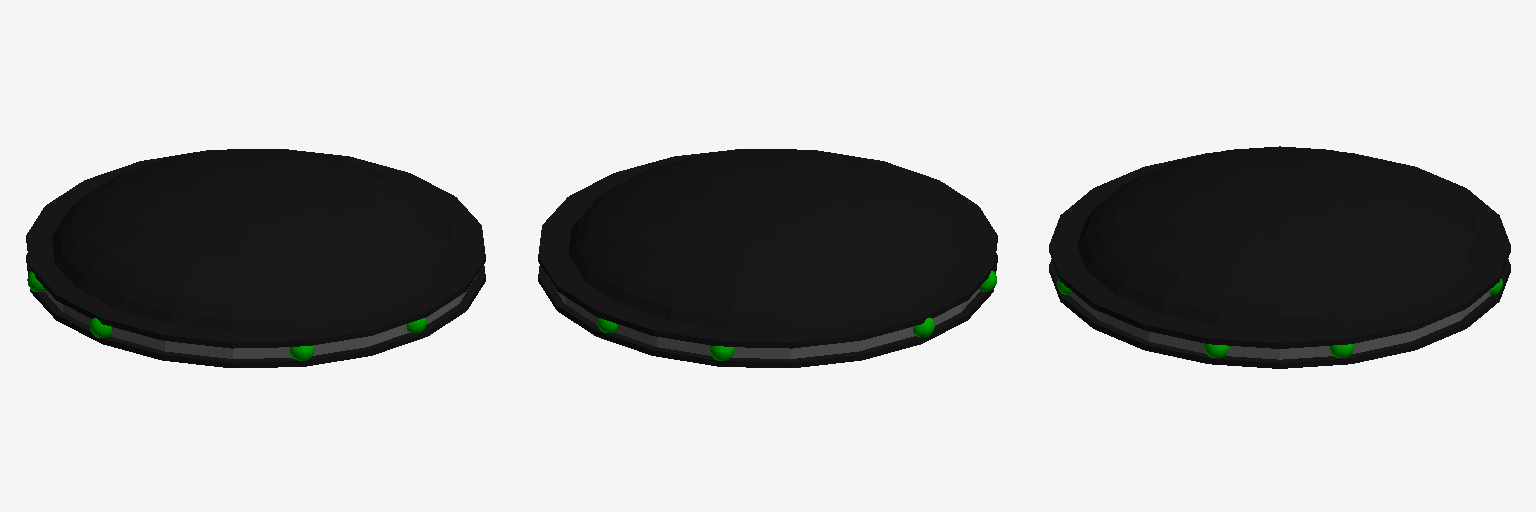
File: UFO2.obj
3 views of the same model, side by side, from view 1: azimuth 30°, elevation 25°; view 2: azimuth 150°, elevation 25°; view 3: azimuth 270°, elevation 25° (orthographic).
Visible parts, largest first — view 1: pSphere23; view 2: pSphere23; view 3: pSphere23.
Boxes of the visible parts, x1=… form: pSphere23: x1=26, y1=149, x2=485, y2=367; pSphere23: x1=538, y1=149, x2=997, y2=367; pSphere23: x1=1049, y1=146, x2=1510, y2=368.
Bounding box in the file's own units: 2.37 × 0.7345 × 2.37.